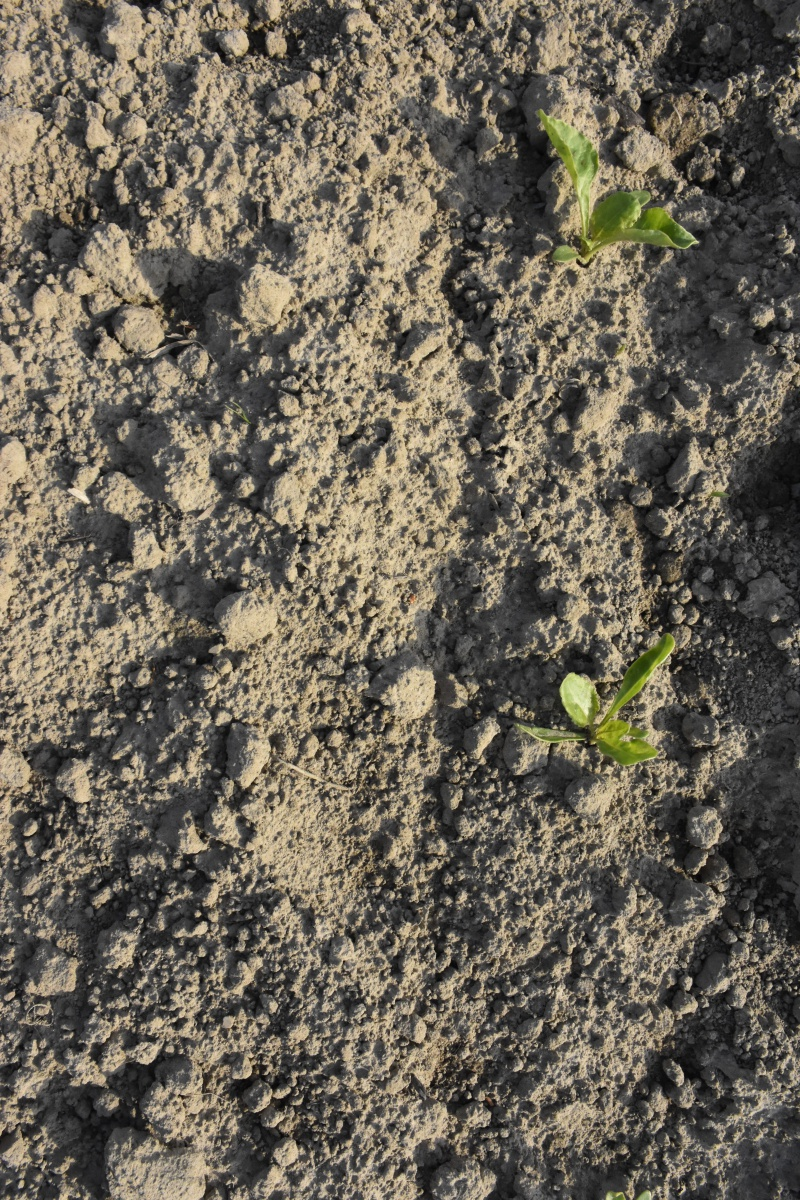sugar beet: (519, 624, 703, 787), (528, 109, 694, 275)
